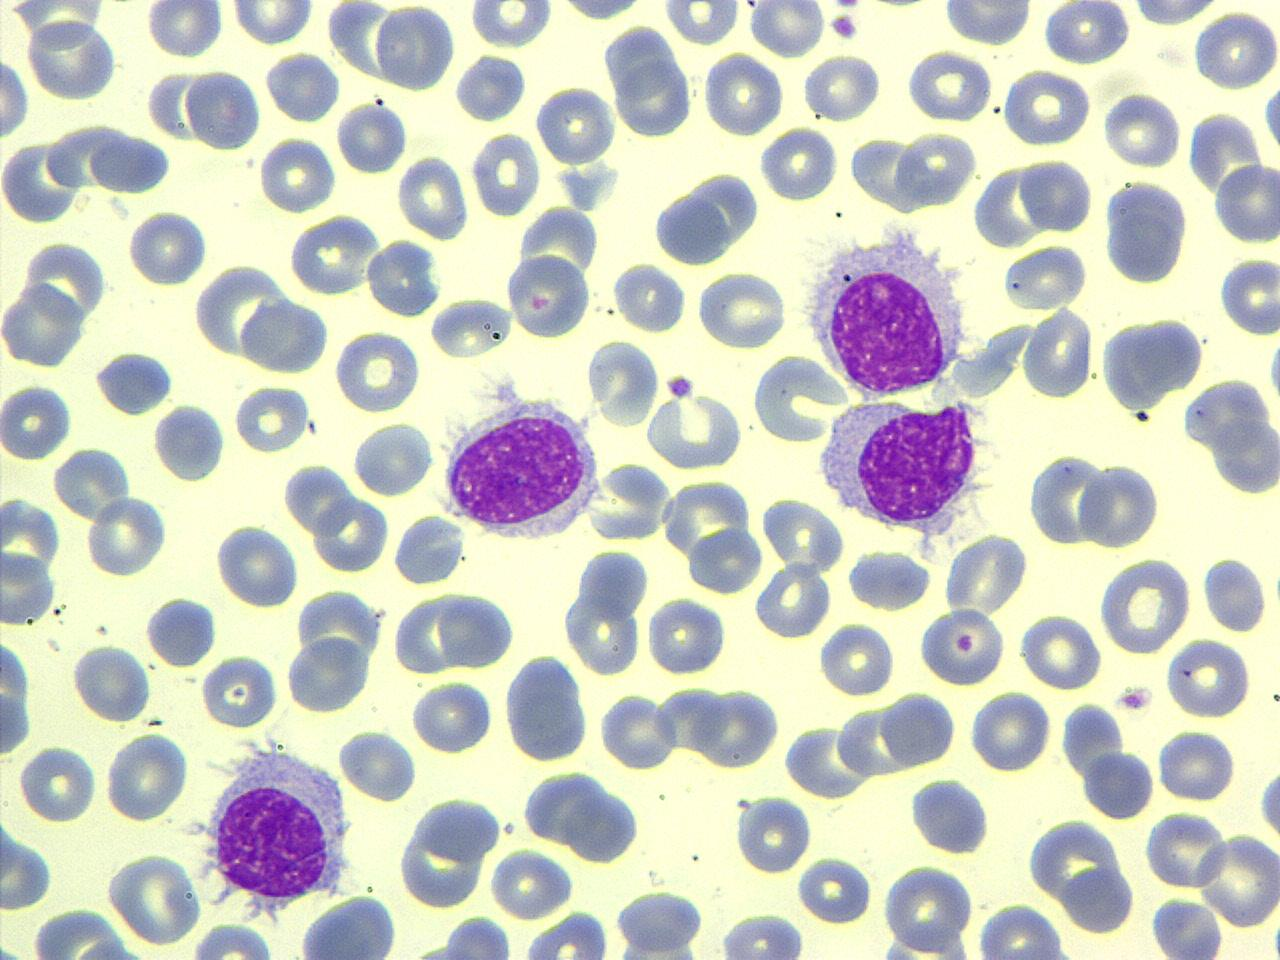Platelets: (1200, 553, 1270, 634), (1114, 682, 1156, 715), (1266, 335, 1280, 413), (827, 11, 860, 41), (664, 373, 694, 400), (826, 2, 864, 18), (1269, 919, 1280, 960)
RBC: (501, 651, 592, 764), (1101, 176, 1191, 286), (1097, 554, 1193, 656), (108, 848, 202, 948), (1196, 828, 1280, 931), (644, 389, 747, 472), (883, 860, 972, 956), (562, 580, 644, 680), (286, 211, 378, 298), (503, 249, 593, 338), (213, 520, 302, 609), (333, 327, 423, 414), (104, 730, 189, 822), (694, 266, 788, 350), (1077, 459, 1163, 549), (237, 294, 331, 376), (1028, 450, 1106, 548), (283, 630, 372, 715), (1, 280, 85, 370), (25, 17, 115, 101), (1192, 7, 1278, 94), (782, 716, 870, 800), (1164, 637, 1252, 721), (918, 605, 1008, 687), (584, 335, 660, 430), (942, 532, 1027, 618), (760, 492, 847, 576), (534, 82, 618, 168), (1001, 68, 1091, 148), (85, 492, 169, 576), (1144, 808, 1230, 890), (698, 684, 780, 770), (970, 688, 1051, 774), (702, 51, 784, 138), (1022, 304, 1094, 402), (374, 3, 454, 92), (406, 792, 502, 865), (2, 136, 80, 226), (612, 56, 694, 140), (733, 791, 813, 876), (893, 129, 977, 211), (364, 234, 443, 320), (183, 65, 262, 151), (51, 442, 133, 524), (908, 774, 991, 856), (15, 742, 98, 824), (906, 45, 992, 124), (71, 642, 152, 724), (644, 594, 726, 676), (256, 132, 338, 214), (1019, 610, 1103, 690), (1101, 89, 1181, 170), (410, 676, 494, 754), (488, 846, 577, 920), (752, 561, 834, 640), (352, 418, 433, 498), (816, 616, 896, 698), (127, 207, 207, 288), (471, 129, 542, 220), (759, 123, 840, 203), (396, 151, 468, 241), (199, 652, 280, 731), (600, 690, 678, 770), (438, 588, 514, 672), (0, 378, 76, 461), (314, 493, 390, 576), (154, 399, 228, 484), (613, 888, 705, 956), (392, 591, 463, 678), (878, 689, 954, 768), (1018, 154, 1092, 237), (1000, 243, 1089, 312), (337, 726, 416, 802), (1041, 0, 1131, 66), (1158, 726, 1236, 802), (610, 259, 688, 334), (797, 852, 874, 928), (264, 49, 340, 125), (1, 625, 42, 763), (232, 380, 308, 454), (1200, 556, 1272, 634), (1213, 160, 1279, 246), (846, 547, 932, 611), (390, 512, 466, 586), (336, 99, 407, 176), (144, 593, 218, 668), (801, 52, 879, 123), (976, 899, 1065, 960), (686, 524, 763, 595), (1217, 252, 1279, 338), (430, 294, 512, 360), (655, 683, 729, 755), (1081, 747, 1155, 820), (1061, 864, 1137, 934), (453, 53, 526, 124), (1150, 893, 1224, 960), (144, 0, 222, 59), (0, 548, 58, 626), (750, 0, 826, 59), (469, 0, 554, 51), (718, 910, 807, 958), (942, 0, 1033, 47), (227, 0, 315, 47), (185, 921, 282, 959), (662, 0, 740, 46), (1125, 0, 1225, 30), (0, 53, 30, 142), (548, 0, 652, 24)
WBC: (803, 228, 972, 401), (440, 380, 610, 545), (814, 390, 988, 538), (202, 744, 353, 910), (650, 166, 765, 268), (532, 768, 644, 863), (502, 650, 590, 764), (1102, 178, 1190, 287), (243, 293, 338, 378), (908, 772, 991, 858), (297, 892, 401, 960), (364, 233, 442, 321), (93, 348, 175, 418), (144, 592, 219, 670), (392, 510, 466, 588), (88, 132, 172, 195), (1, 626, 36, 768)
